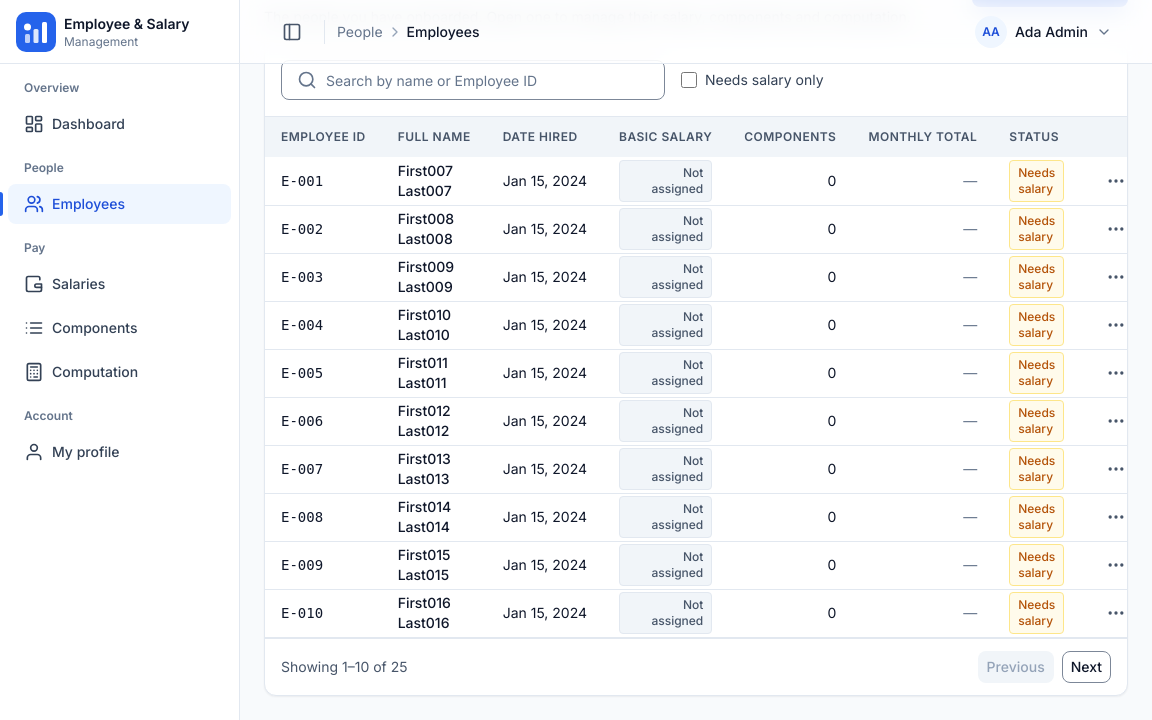
Test case: Employees page › shows 10 rows per page and moves between pages
(page scrolled)
expect the text "Showing 1–10 of 25" is shown: met, box [281,656,408,676]
What coordinates should you click on to do the following:
click the button "Next"
I would click on:
 (1086, 666)
Its box is [1062,650,1111,682].
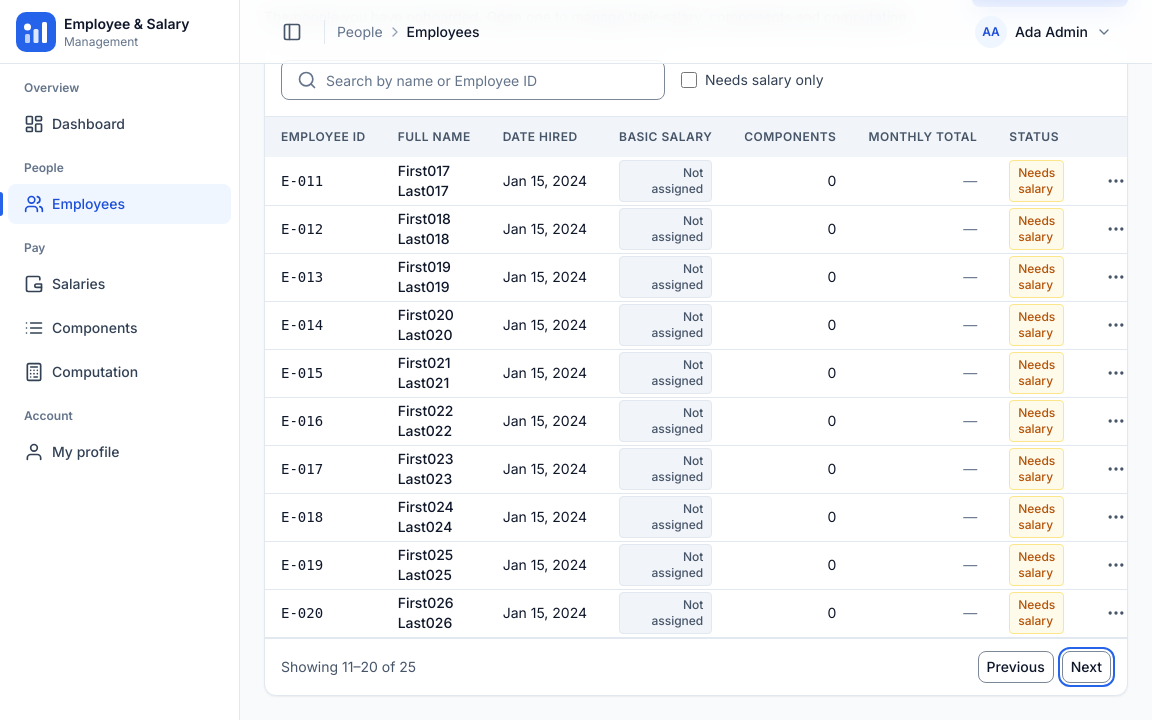
What coordinates should you click on to do the following:
click the button "Next"
I would click on:
 (1086, 666)
Its box is [1062,650,1111,682].
(page scrolled)
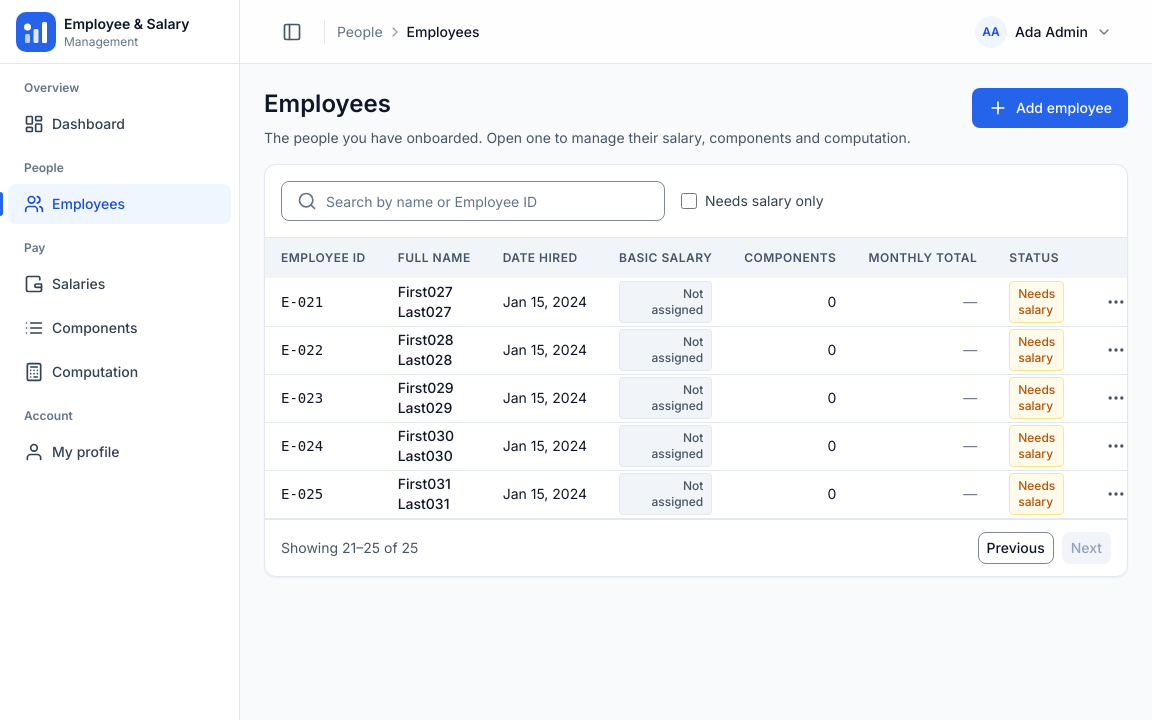
expect the text "Showing 21–25 of 25" is shown: met, box [281,538,418,558]
